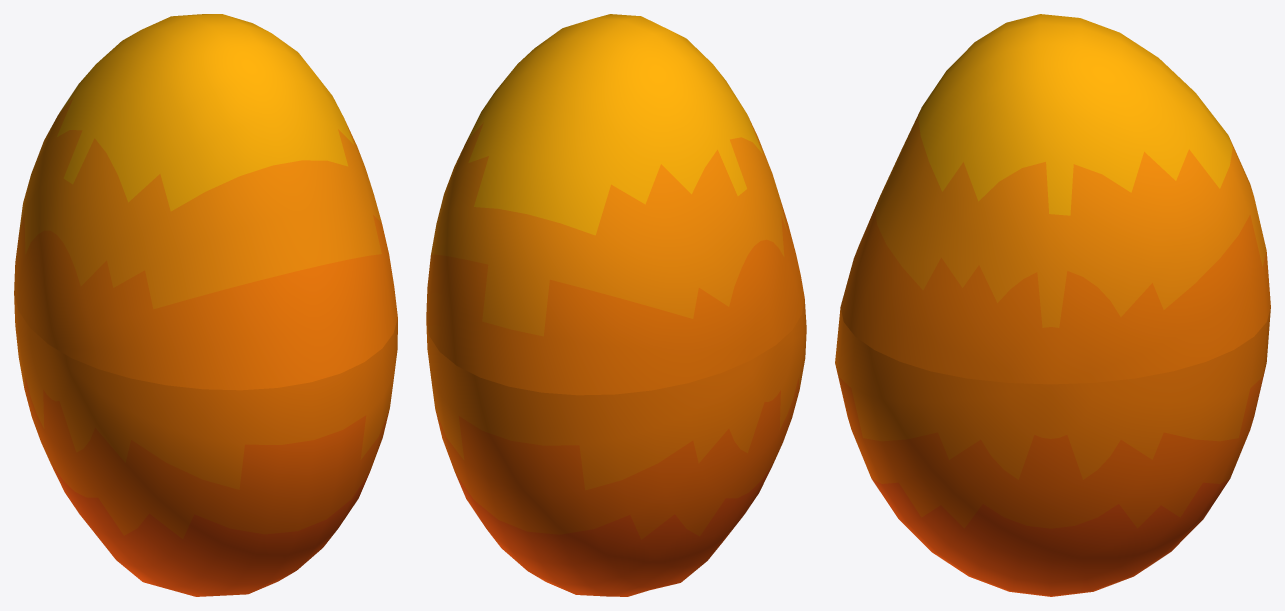
The model's file is Fruit_Mango_Sliced.fbx.
The picture shows the model from 3 angles, left to right: view 1: azimuth 30°, elevation 25°; view 2: azimuth 150°, elevation 25°; view 3: azimuth 270°, elevation 25°; orthographic projection.
Parts seen in each view (by area): view 1: Mango_Top, Mango_Bottom; view 2: Mango_Top, Mango_Bottom; view 3: Mango_Top, Mango_Bottom.
Boxes of the visible parts, x1=… form: Mango_Top: x1=14, y1=14, x2=397, y2=390; Mango_Bottom: x1=14, y1=294, x2=397, y2=596; Mango_Top: x1=426, y1=14, x2=804, y2=395; Mango_Bottom: x1=426, y1=299, x2=806, y2=596; Mango_Top: x1=840, y1=14, x2=1270, y2=384; Mango_Bottom: x1=835, y1=307, x2=1270, y2=596.
Bounding box in the file's own units: 167 × 283 × 198.
